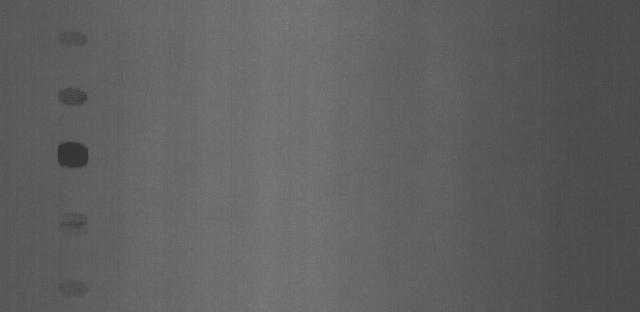oil_spot: (54, 138, 93, 174), (51, 212, 92, 240), (54, 274, 90, 301), (57, 83, 92, 109), (57, 29, 88, 49)
